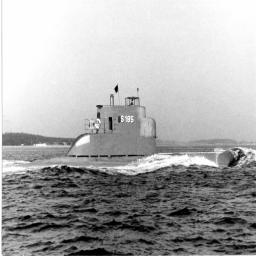submarine: (23, 102, 244, 170)
